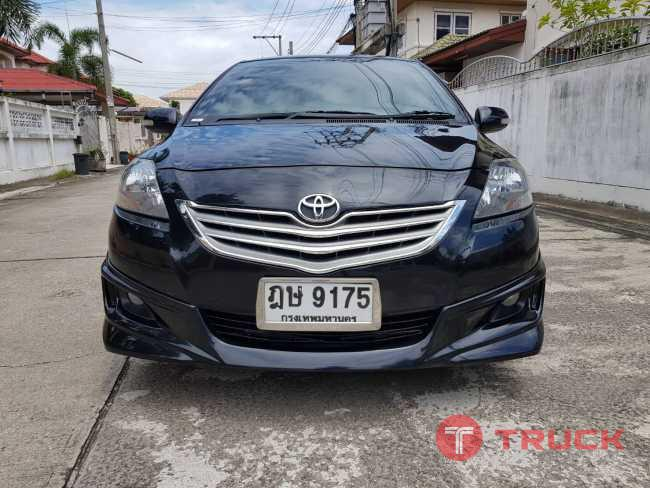sedan: (99, 51, 548, 379)
